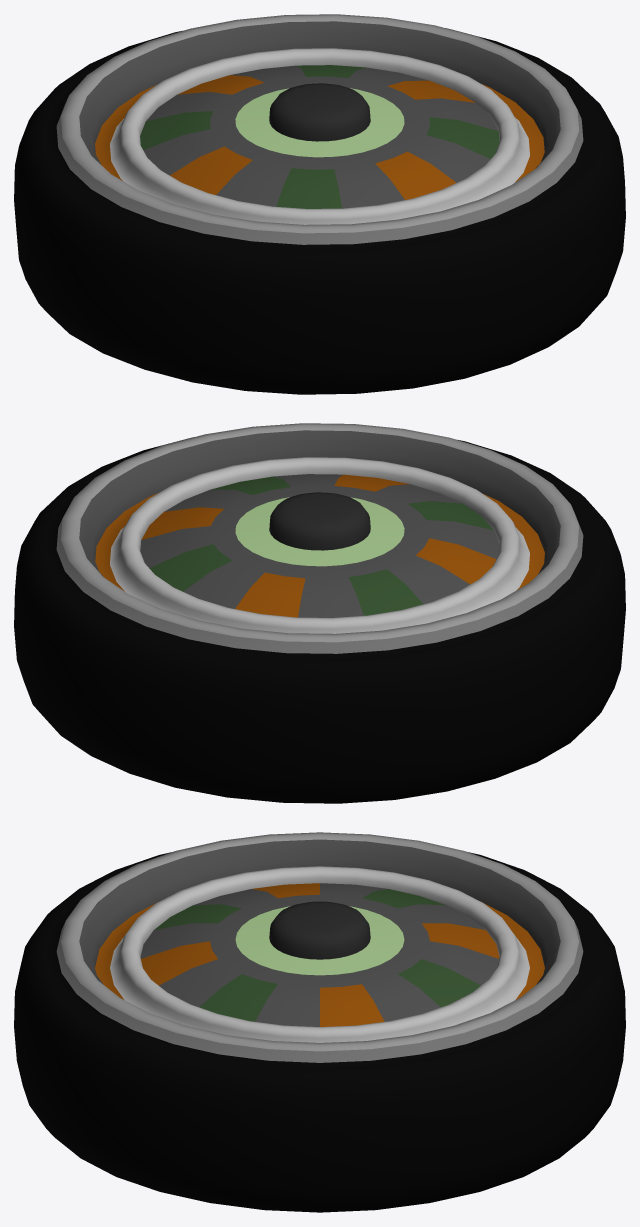
The model's file is mesh_Factory_Hockey_Puck.fbx.
The picture shows the model from 3 angles, top to bottom: view 1: azimuth 30°, elevation 25°; view 2: azimuth 150°, elevation 25°; view 3: azimuth 270°, elevation 25°; orthographic projection.
Parts seen in each view (by area): view 1: mesh_Factory_Hockey_Puck; view 2: mesh_Factory_Hockey_Puck; view 3: mesh_Factory_Hockey_Puck.
Part boxes in pixels (x1,y1,x2,y2): mesh_Factory_Hockey_Puck: (14, 14, 625, 394); mesh_Factory_Hockey_Puck: (14, 423, 625, 803); mesh_Factory_Hockey_Puck: (14, 832, 625, 1212).
Size of the model in its own units: 2.96 by 0.9299 by 2.96.
